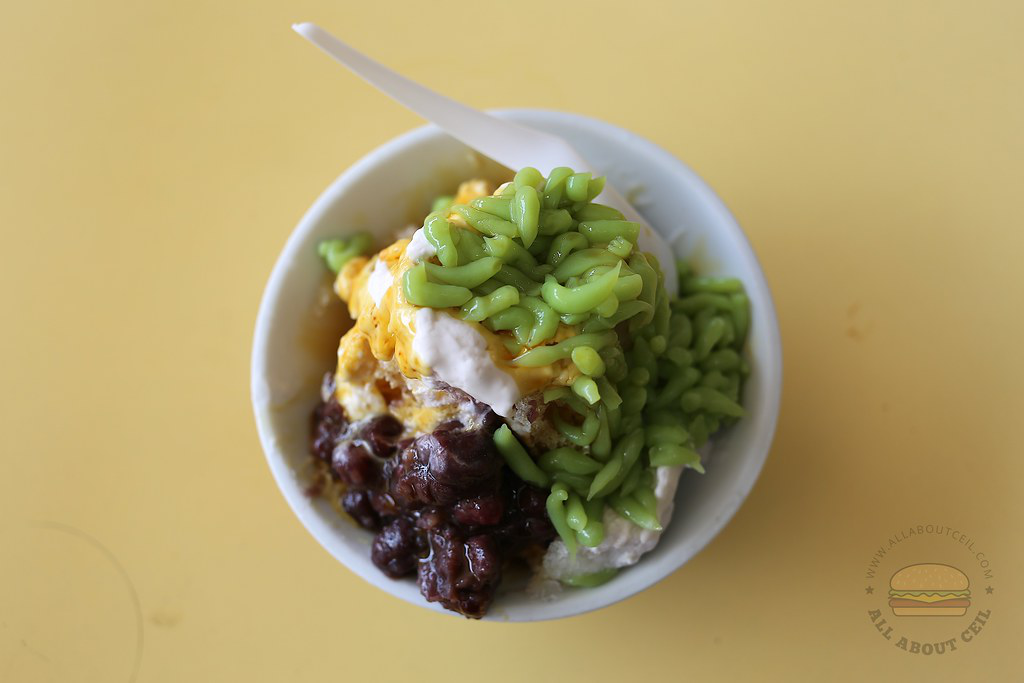Chendol: (275, 134, 783, 611)
